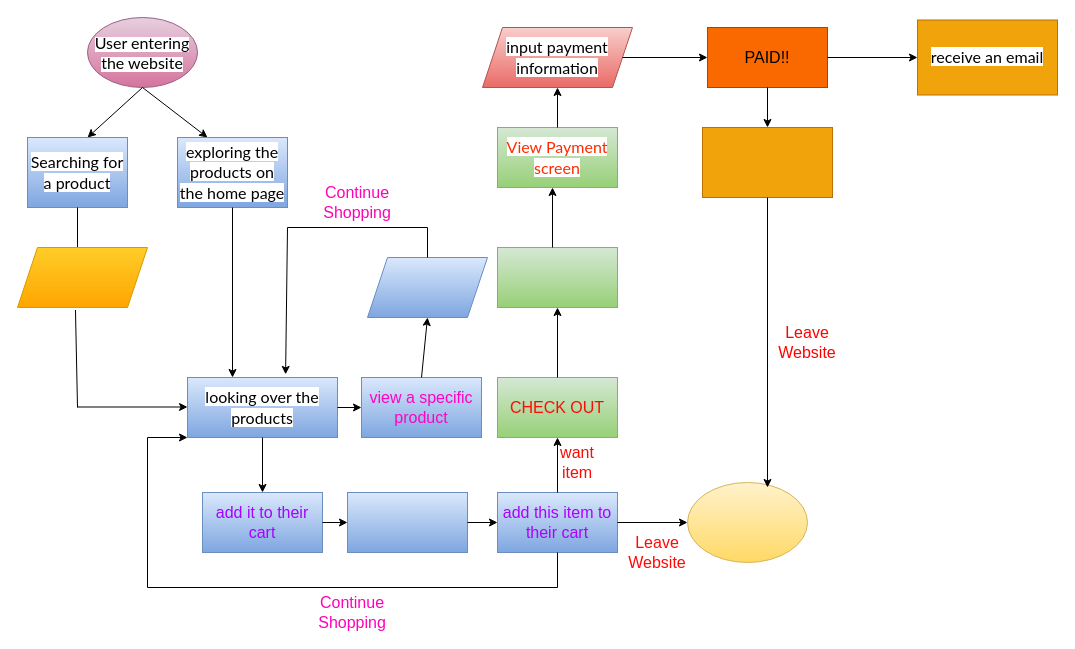
The diagram is 1075 pixels wide and 649 high, and some of its shapes have lost their labels. Each missing label, with the centre of its shape:
END: point (747, 522)
product’s webpage will open: point (427, 287)
reach the View Cart screen: point (557, 277)
receive an added to cart confirmation: point (407, 522)
see an order confirmation screen: point (767, 162)
the website of their search: point (82, 277)
